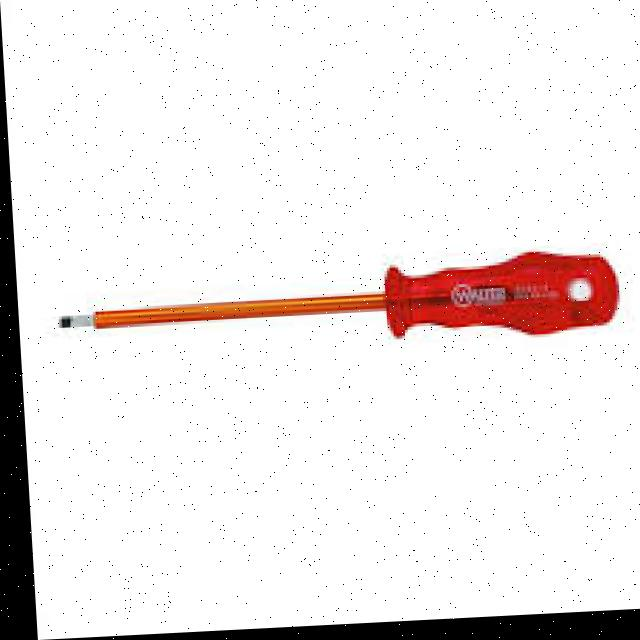Screwdriver: (55, 258, 618, 343)
